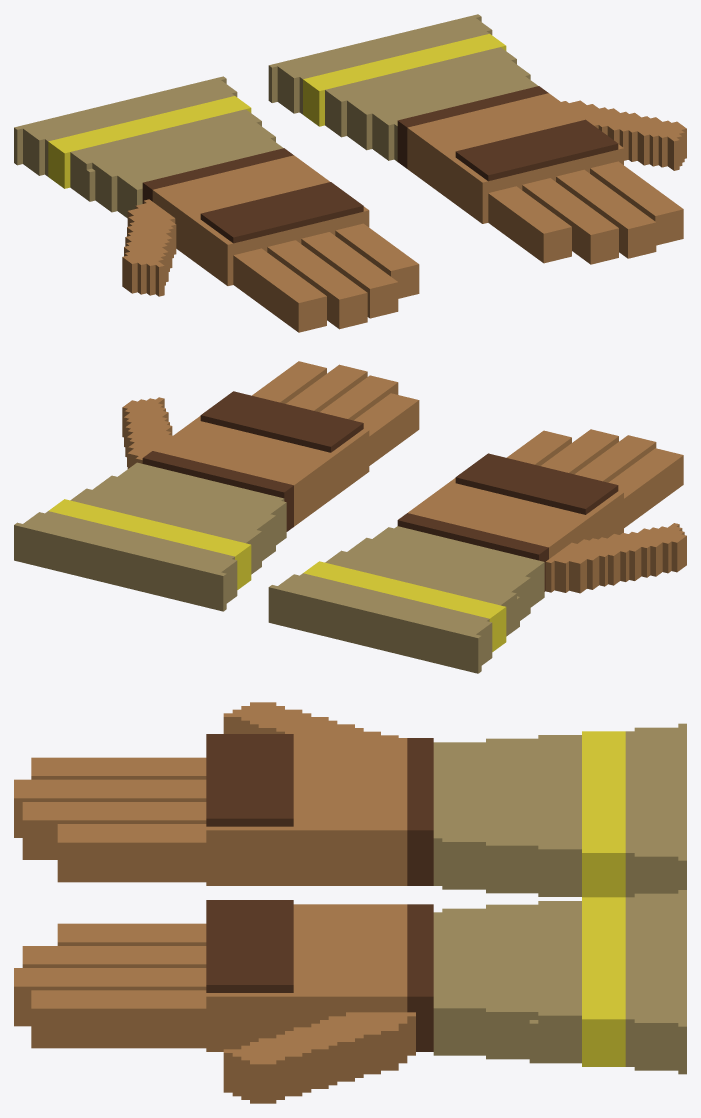
The model's file is fire_gauntlets.glb.
The picture shows the model from 3 angles, top to bottom: view 1: azimuth 30°, elevation 25°; view 2: azimuth 150°, elevation 25°; view 3: azimuth 270°, elevation 25°; orthographic projection. The views are drawn at different scales.
Parts seen in each view (by area): view 1: fire_gauntlets:compound; view 2: fire_gauntlets:compound; view 3: fire_gauntlets:compound.
Boxes of the visible parts, left/top/right/bottom form: fire_gauntlets:compound: left=14, top=14, right=686, bottom=332; fire_gauntlets:compound: left=14, top=361, right=686, bottom=673; fire_gauntlets:compound: left=14, top=702, right=686, bottom=1103.
Bounding box in the file's own units: 0.392 × 0.032 × 0.308.
